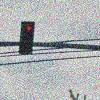traffic lights: (18, 21, 34, 55)
